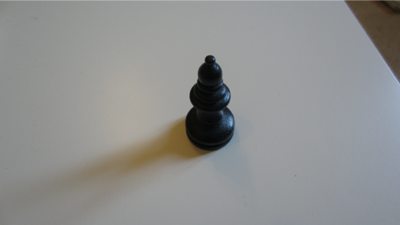black-bishop: (184, 54, 238, 152)
